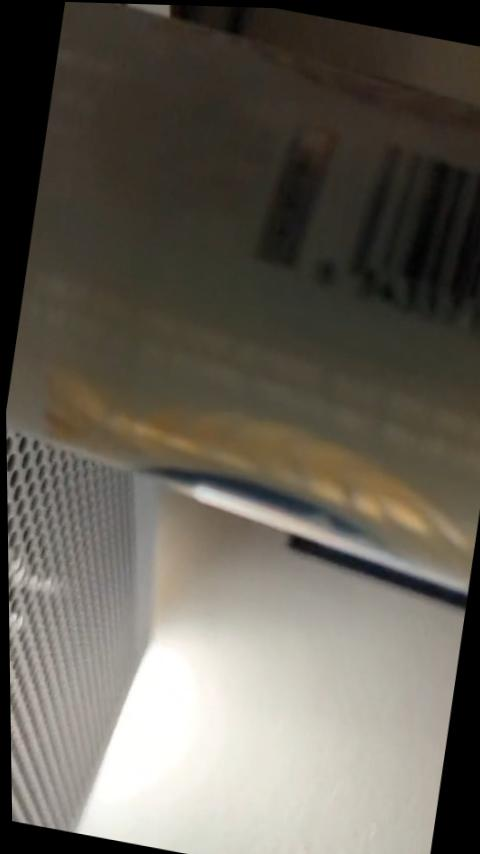metal: (9, 4, 479, 587)
